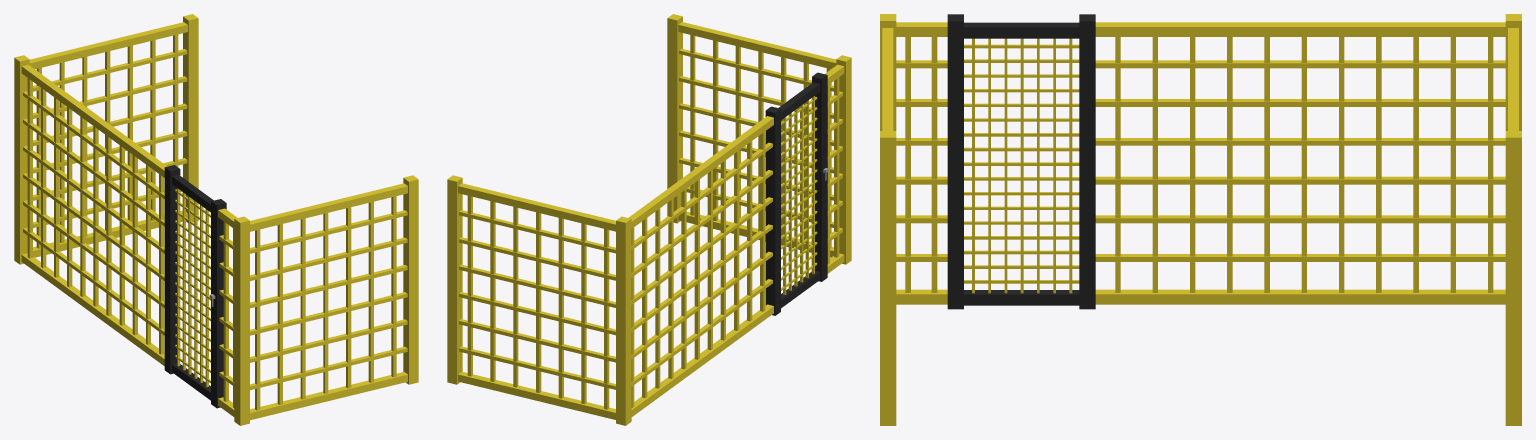
The model's file is stacker-guard.glb.
The picture shows the model from 3 angles, left to right: view 1: azimuth 30°, elevation 25°; view 2: azimuth 150°, elevation 25°; view 3: azimuth 270°, elevation 25°; orthographic projection. The views are drawn at different scales.
Parts seen in each view (by area): view 1: stacker-guard__防护网020, stacker-guard__防护网024, stacker-guard__防护网022, stacker-guard__防护网011, stacker-guard__防护网021, stacker-guard__防护网017, stacker-guard__防护网023, stacker-guard__防护网029, stacker-guard__防护网016, stacker-guard__防护网010, stacker-guard__防护网009, stacker-guard__防护网012 (+10 smaller); view 2: stacker-guard__防护网020, stacker-guard__防护网023, stacker-guard__防护网017, stacker-guard__防护网011, stacker-guard__防护网016, stacker-guard__防护网022, stacker-guard__防护网029, stacker-guard__防护网024, stacker-guard__防护网021, stacker-guard__防护网010, stacker-guard__防护网009, stacker-guard__防护网012 (+10 smaller); view 3: stacker-guard__防护网011, stacker-guard__防护网020, stacker-guard__防护网006, stacker-guard__防护网013, stacker-guard__防护网012, stacker-guard__防护网029, stacker-guard__防护网022, stacker-guard__防护网017, stacker-guard__防护网010, stacker-guard__防护网009, stacker-guard__防护网028, stacker-guard__防护网027 (+6 smaller).
Part boxes in pixels (x1,y1,x2,y2): stacker-guard__防护网020: (27, 78, 164, 354); stacker-guard__防护网024: (255, 196, 396, 410); stacker-guard__防护网022: (234, 175, 418, 425); stacker-guard__防护网011: (23, 91, 164, 335); stacker-guard__防护网021: (250, 210, 407, 390); stacker-guard__防护网017: (14, 14, 198, 264); stacker-guard__防护网023: (36, 34, 178, 248); stacker-guard__防护网029: (177, 188, 208, 387); stacker-guard__防护网016: (33, 49, 187, 227); stacker-guard__防护网010: (164, 165, 180, 374); stacker-guard__防护网009: (211, 199, 226, 408); stacker-guard__防护网012: (21, 64, 167, 177); stacker-guard__防护网020: (631, 131, 765, 407); stacker-guard__防护网023: (467, 195, 609, 409); stacker-guard__防护网017: (447, 175, 631, 425); stacker-guard__防护网011: (631, 142, 772, 386); stacker-guard__防护网016: (459, 210, 615, 389); stacker-guard__防护网022: (667, 14, 851, 264); stacker-guard__防护网029: (783, 96, 814, 294); stacker-guard__防护网024: (690, 35, 831, 248); stacker-guard__防护网021: (679, 48, 833, 227); stacker-guard__防护网010: (765, 106, 780, 315); stacker-guard__防护网009: (812, 72, 827, 281); stacker-guard__防护网012: (628, 116, 773, 228); stacker-guard__防护网011: (1095, 60, 1505, 261); stacker-guard__防护网020: (1115, 37, 1493, 292); stacker-guard__防护网006: (964, 44, 1079, 283); stacker-guard__防护网013: (1095, 289, 1505, 304); stacker-guard__防护网012: (1095, 22, 1505, 36); stacker-guard__防护网029: (972, 38, 1072, 293); stacker-guard__防护网022: (880, 14, 896, 425); stacker-guard__防护网017: (1505, 14, 1521, 425); stacker-guard__防护网010: (1079, 14, 1095, 309); stacker-guard__防护网009: (947, 14, 963, 309); stacker-guard__防护网028: (905, 37, 937, 292); stacker-guard__防护网027: (896, 60, 947, 261).
Size of the model in its own units: 2.06 by 2.21 by 4.47.
